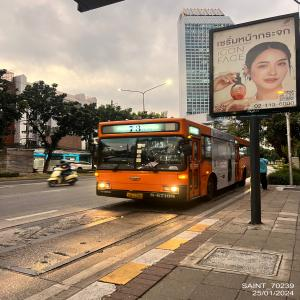BMTA-bus: (94, 118, 251, 208)
Bus Line Number: (126, 124, 154, 132)
Bus Side Number: (148, 191, 177, 201)
Destination Sign: (155, 153, 181, 163)
